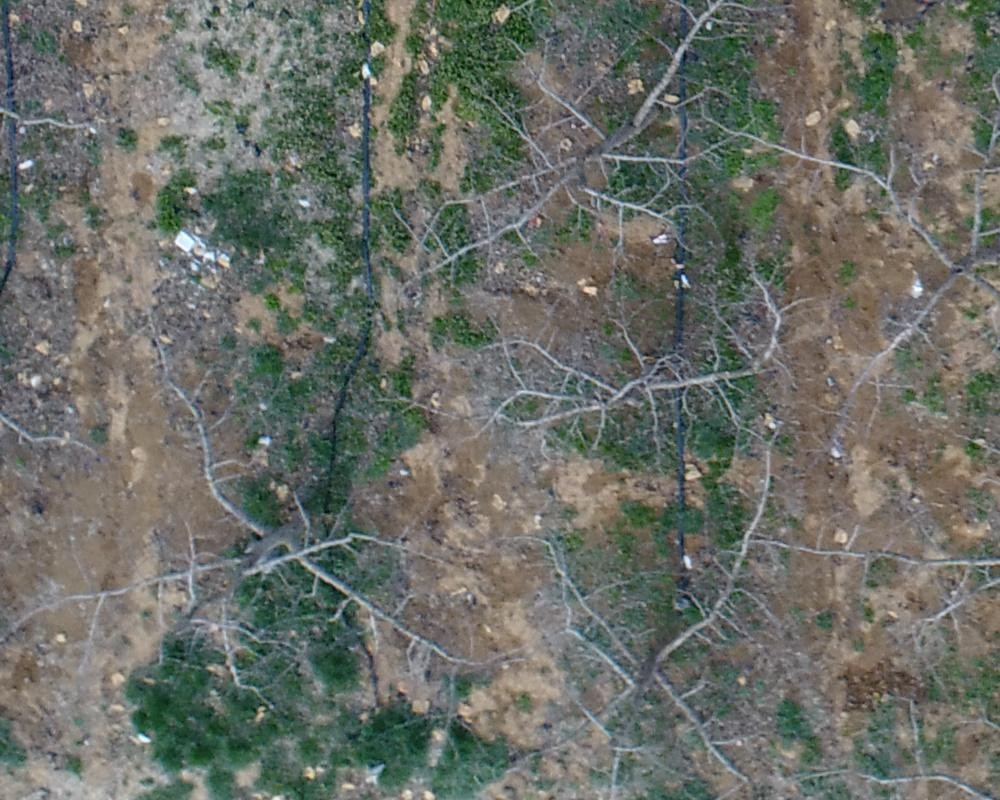apple: (10, 353, 533, 740), (381, 10, 796, 294), (506, 442, 792, 790), (707, 98, 990, 444), (421, 269, 827, 464), (753, 444, 990, 698)
